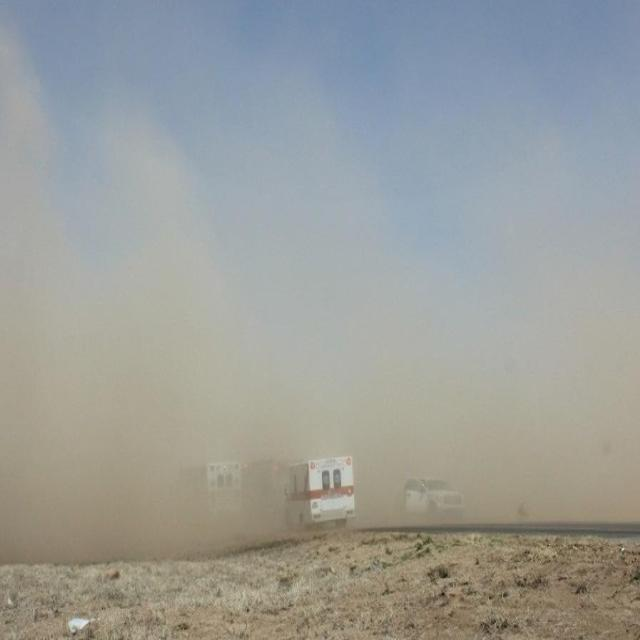Car: (402, 471, 464, 526)
